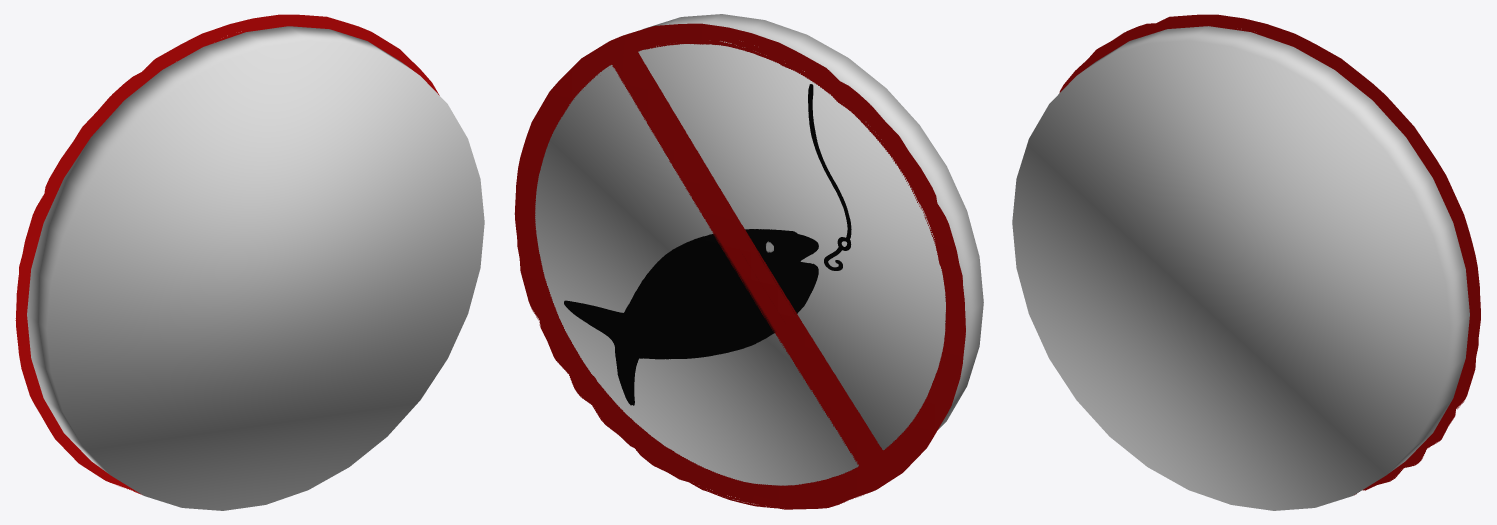
File: Koi-tious.fbx
3 views of the same model, side by side, from view 1: azimuth 30°, elevation 25°; view 2: azimuth 150°, elevation 25°; view 3: azimuth 330°, elevation 25° (orthographic).
Visible parts, largest first — view 1: Circle.003, No fishing.001; view 2: Circle.003, No fishing.001; view 3: Circle.003, No fishing.001.
Part boxes in pixels (bbox=[...]): Circle.003: bbox=[27, 26, 484, 510]; No fishing.001: bbox=[15, 14, 439, 494]; Circle.003: bbox=[535, 14, 983, 485]; No fishing.001: bbox=[514, 23, 965, 509]; Circle.003: bbox=[1012, 26, 1469, 510]; No fishing.001: bbox=[1059, 14, 1480, 495].
Size of the model in its own units: 78.5 by 78.31 by 7.95.
